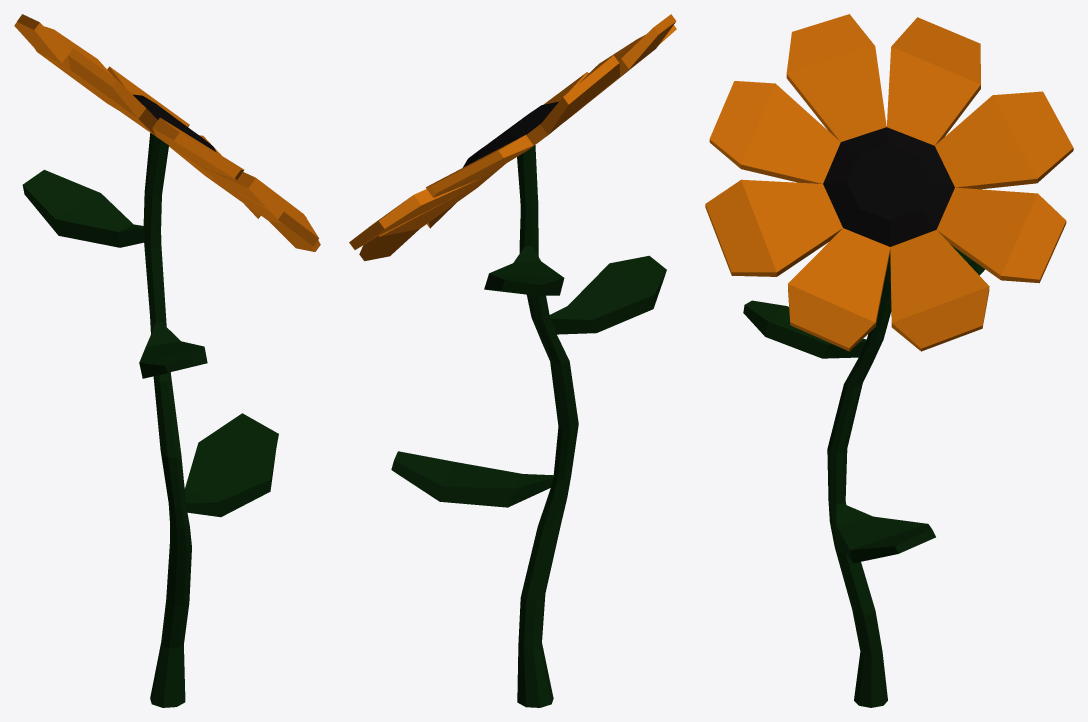
Rendered from flower_2.obj.
3 views of the same model, side by side, from view 1: azimuth 30°, elevation 25°; view 2: azimuth 150°, elevation 25°; view 3: azimuth 270°, elevation 25° (orthographic). The views are drawn at different scales.
Visible parts, largest first — view 1: flower_2_stem, flower_2_petals; view 2: flower_2_stem, flower_2_petals; view 3: flower_2_petals, flower_2_stem.
Boxes of the visible parts, <box> form: flower_2_stem: <box>22,133,278,707</box>; flower_2_petals: <box>14,14,320,251</box>; flower_2_stem: <box>391,145,666,707</box>; flower_2_petals: <box>349,14,676,261</box>; flower_2_petals: <box>705,14,1073,351</box>; flower_2_stem: <box>743,244,985,707</box>.
Size of the model in its own units: 0.3879 by 1.08 by 0.5642.
